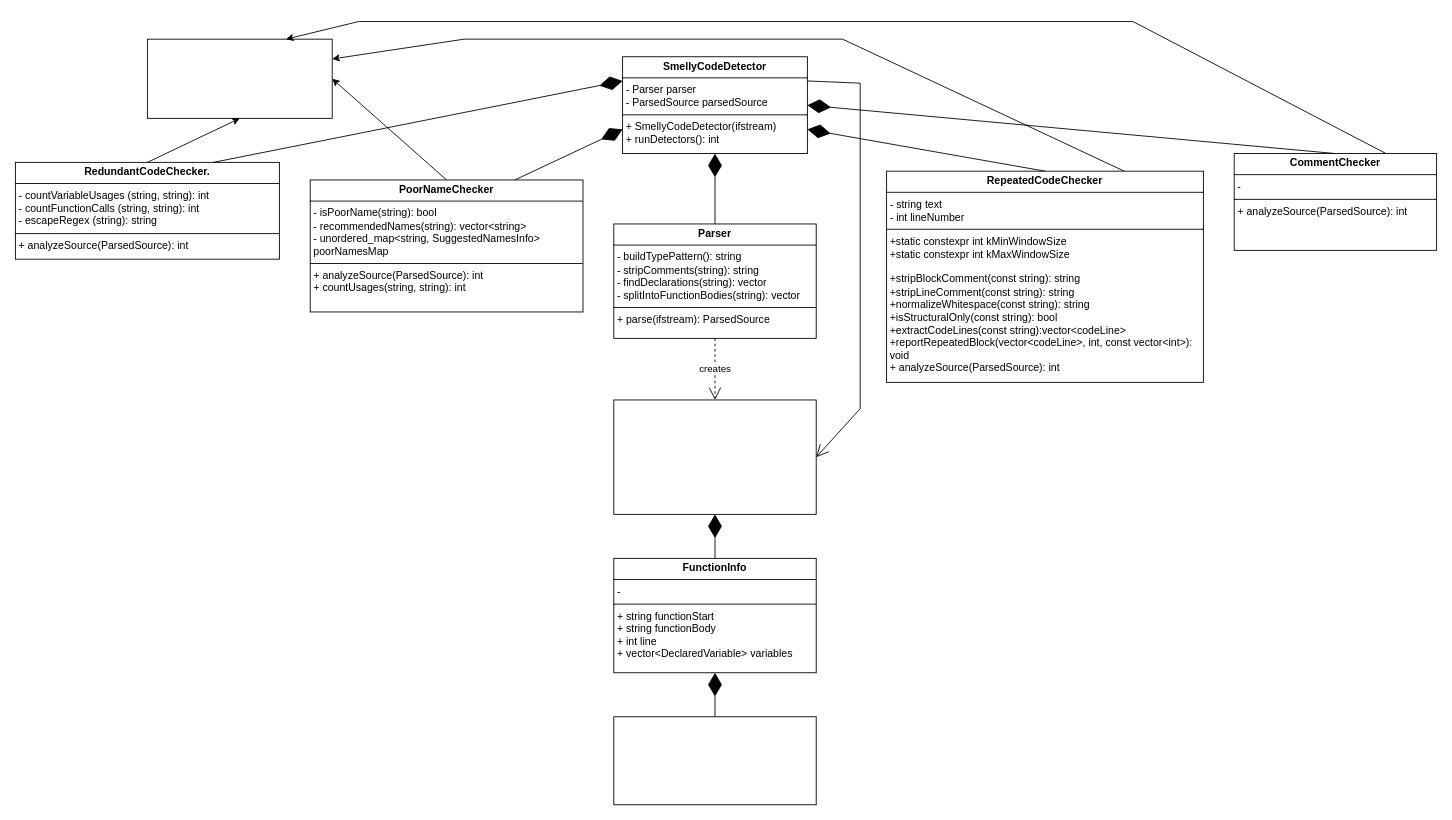
Image size: 1452x820. Some labels were removed from this diagram. Each missing label, with the centre of its shape:
"DeclaredVariable - + string name + int line" goes at point (714, 760).
"Detector - + analyzeSource(ParsedSource): int" goes at point (239, 78).
"ParsedSource - + string source + vector<FunctionInfo> functions" goes at point (714, 456).
